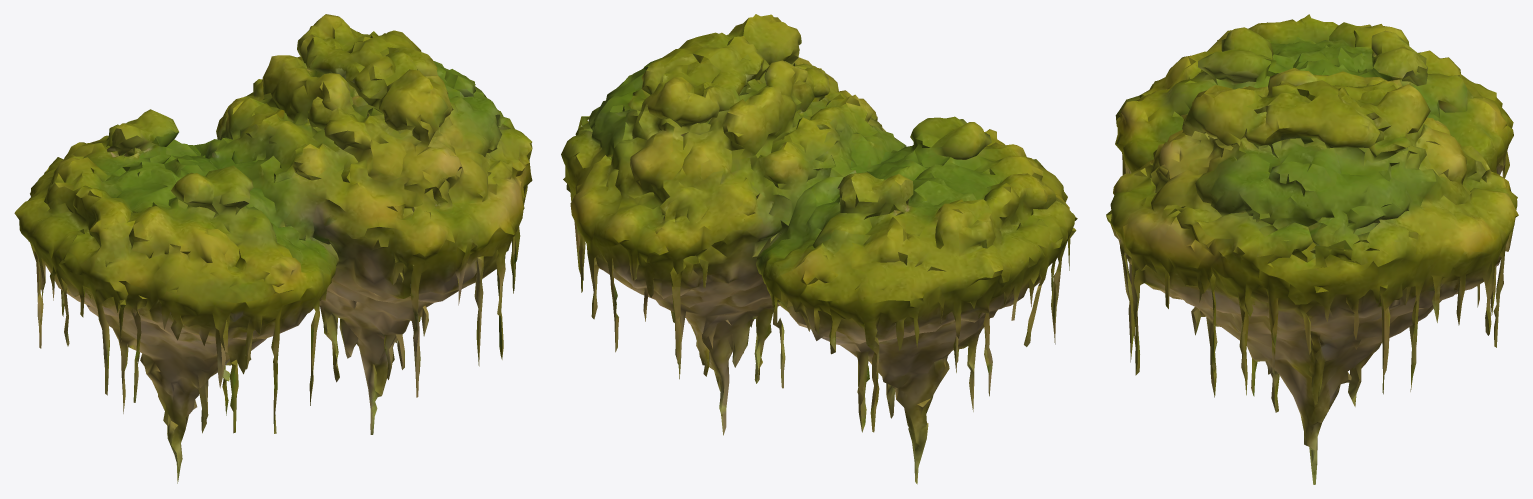
The model's file is isle-twin-hd.glb.
3 views of the same model, side by side, from view 1: azimuth 30°, elevation 25°; view 2: azimuth 150°, elevation 25°; view 3: azimuth 270°, elevation 25° (orthographic). The views are drawn at different scales.
Parts seen in each view (by area): view 1: isle-twin-hd.raw; view 2: isle-twin-hd.raw; view 3: isle-twin-hd.raw.
Boxes of the visible parts, box(x1,y1,x2,y2) form: isle-twin-hd.raw: box(14, 14, 532, 483); isle-twin-hd.raw: box(561, 14, 1077, 484); isle-twin-hd.raw: box(1106, 14, 1518, 484).
Size of the model in its own units: 12.24 by 9.98 by 9.18.
1 material, 1 textured.
